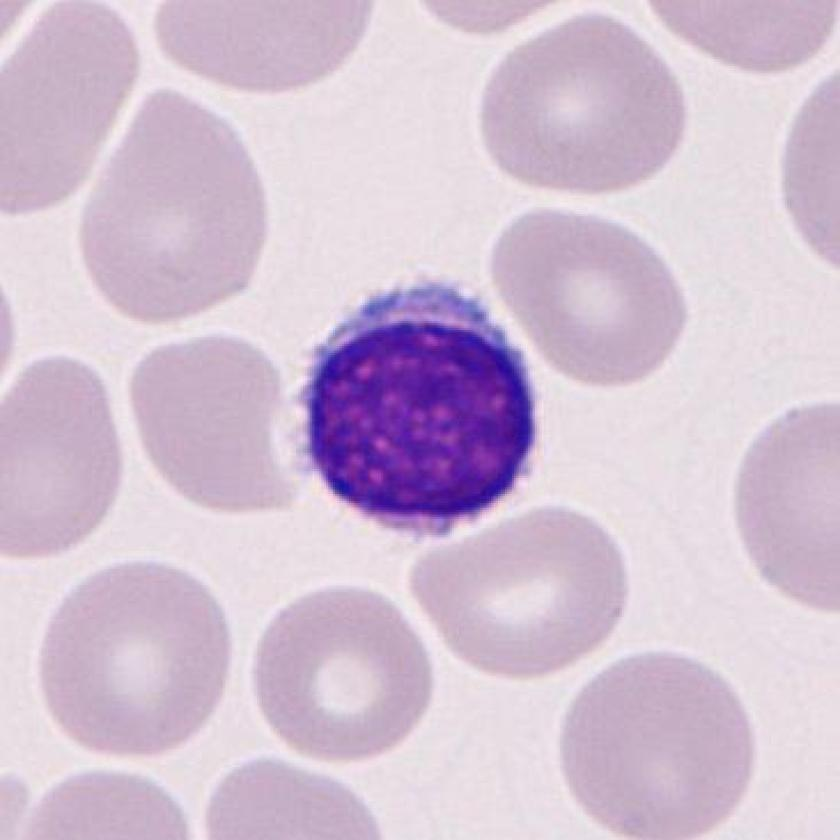lymphocyte: (277, 265, 566, 561)
